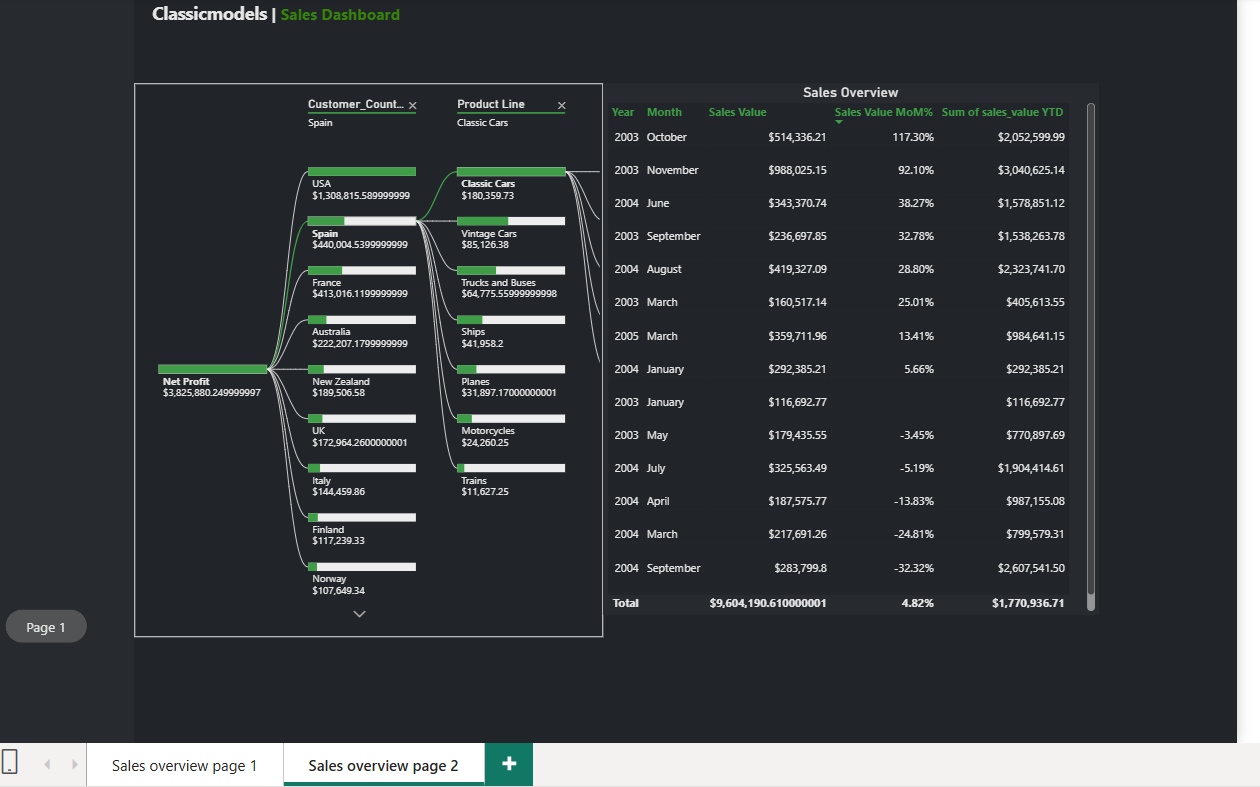

Layout of this report page (visuals, bound fields, positions):
{"tool":"powerbi","page":{"name":"Sales overview page 2","canvas":[1500,900],"ordinal":1},"visuals":[{"type":"shape","box":[0,0,170,900],"z":0},{"type":"decompositionTreeVisual","fields":{"Analyze":["classicmodels sales_data_for_power_bi.Net Profit"],"ExplainBy":["classicmodels sales_data_for_power_bi.customer_country","classicmodels sales_data_for_power_bi.productLine","classicmodels sales_data_for_power_bi.customerName"]},"box":[170,103.3,566.7,668.3],"z":1000},{"type":"textbox","box":[186.7,0,485,75],"z":2000},{"type":"tableEx","title":"Sales Overview","fields":{"Values":["classicmodels sales_data_for_power_bi.orderdate.Variation.Date Hierarchy.Year","classicmodels sales_data_for_power_bi.orderdate.Variation.Date Hierarchy.Month","Sum(classicmodels sales_data_for_power_bi.sales_value)","classicmodels sales_data_for_power_bi.Sum of sales_value MoM%","Table.Sum of sales_value YTD"]},"box":[736.7,103.3,598.3,641.7],"z":3000},{"type":"actionButton","box":[15,738.3,98.3,40],"z":4000}]}

Visuals, with their boxes on the page's 1500x900 design canvas (x1, y1, x2, y2). These are canvas units, not pixel positions in the 1260x787 screenshot, which may show the page scaled, cropped or inside an application window:
shape: 0, 0, 170, 900
decompositionTreeVisual - classicmodels sales_data_for_power_bi.Net Profit x classicmodels sales_data_for_power_bi.customer_country: 170, 103, 737, 772
textbox: 187, 0, 672, 75
"Sales Overview" tableEx: 737, 103, 1335, 745
actionButton: 15, 738, 113, 778
